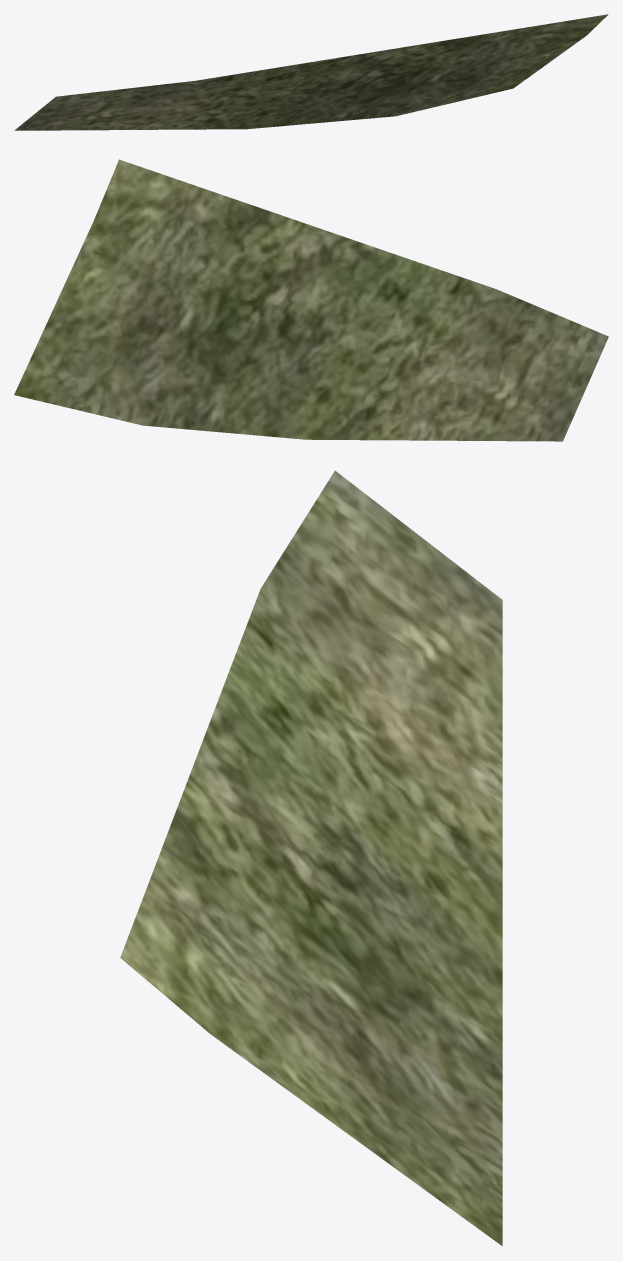
The picture shows the model from 3 angles, top to bottom: view 1: azimuth 30°, elevation 25°; view 2: azimuth 150°, elevation 25°; view 3: azimuth 270°, elevation 25°; orthographic projection. The views are drawn at different scales.
Size of the model in its own units: 2.95 by 0.8149 by 0.9783.
Materials: 1 (1 with a texture image).
